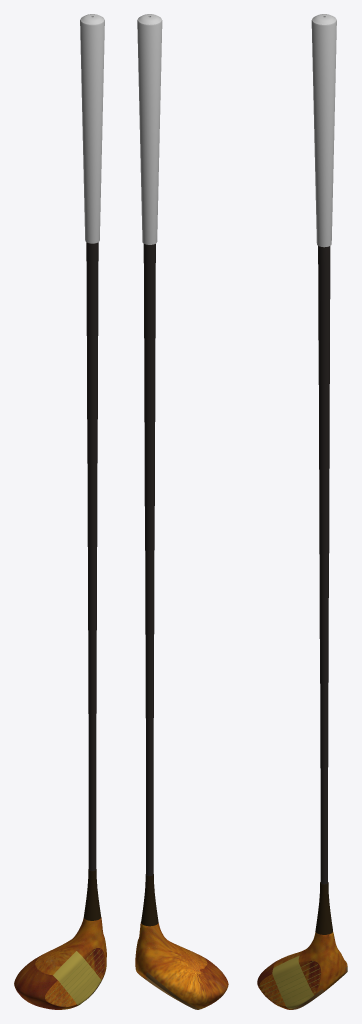
File: N1wood.fbx
3 views of the same model, side by side, from view 1: azimuth 30°, elevation 25°; view 2: azimuth 210°, elevation 25°; view 3: azimuth 330°, elevation 25° (orthographic).
Parts seen in each view (by area): view 1: WOODSHFT, WOOD (×4), WOODGRIP, WOODWHIP; view 2: WOODSHFT, WOODGRIP, WOOD, WOODWHIP, WOODHEEL; view 3: WOODSHFT, WOODGRIP (×2), WOOD (×4), WOODWHIP.
Part boxes in pixels (x1,y1,x2,y2): WOODSHFT: (86, 242, 98, 870); WOOD (×4): (14, 917, 106, 1009); WOODGRIP: (80, 21, 104, 243); WOODWHIP: (83, 869, 101, 920); WOODSHFT: (143, 244, 155, 875); WOODGRIP: (137, 22, 162, 244); WOOD: (135, 922, 228, 1008); WOODWHIP: (141, 874, 158, 926); WOODHEEL: (138, 972, 201, 1009); WOODSHFT: (318, 246, 330, 884); WOODGRIP (×2): (311, 14, 336, 247); WOOD (×4): (257, 932, 347, 1009); WOODWHIP: (315, 882, 332, 934).
Size of the model in its own units: 30.34 by 357 by 26.02.
